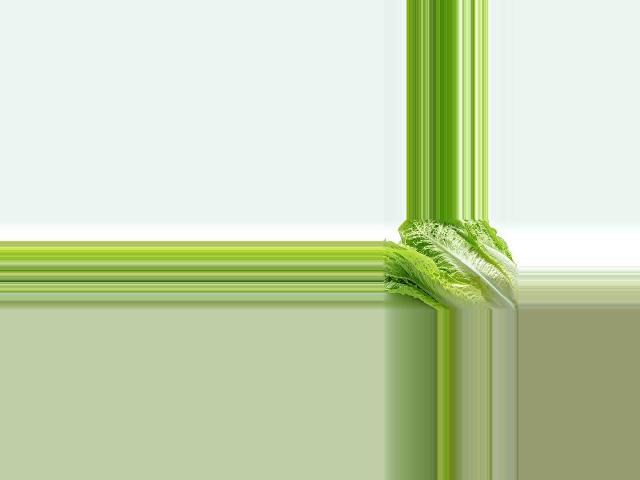lettuce: (381, 220, 518, 309)
